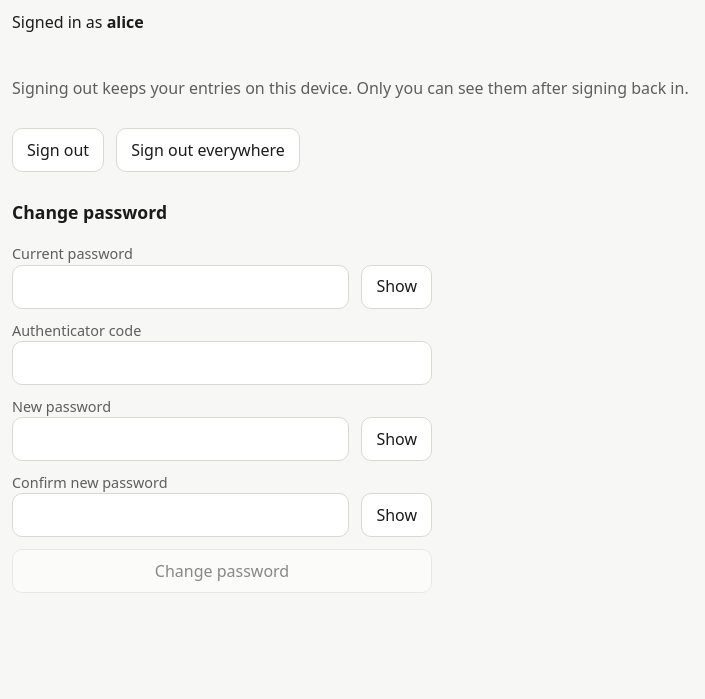
Test: AccountMenu › change password (ASVS 2.1.5, 2.1.6) › sends the current password, a code and the new password, then confirms and clears the form
In the password field labelled "Current password": (181, 287) 12,265 -> 349,309, type "the old passphrase"
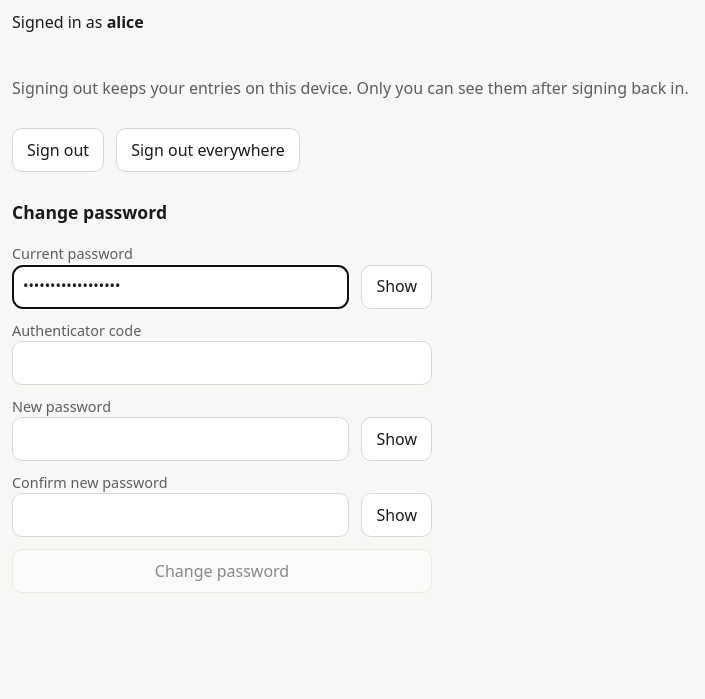
In the field labelled "Authenticator code": (222, 363) 12,341 -> 432,385, type "123456"
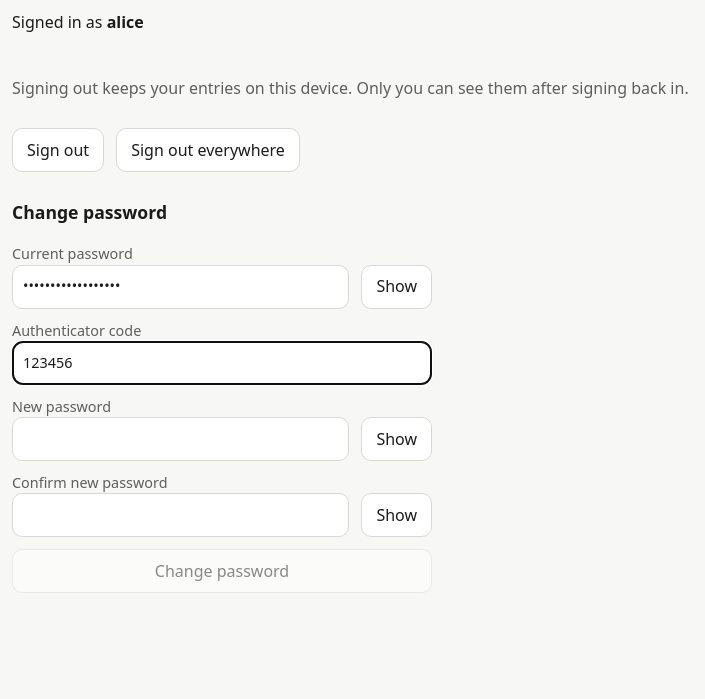
In the password field labelled "New password": (181, 439) 12,417 -> 349,461, type "a new and private passphrase"
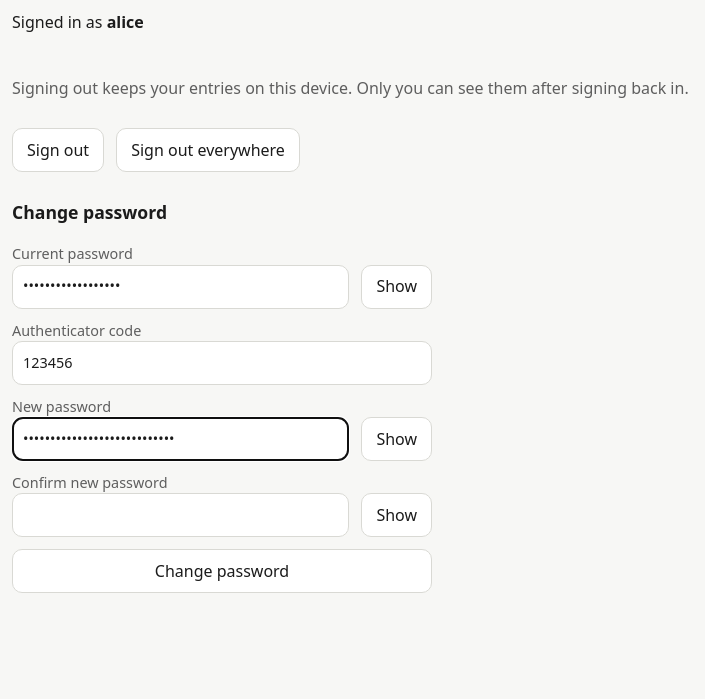
In the password field labelled "Confirm new password": (181, 515) 12,493 -> 349,537, type "a new and private passphrase"
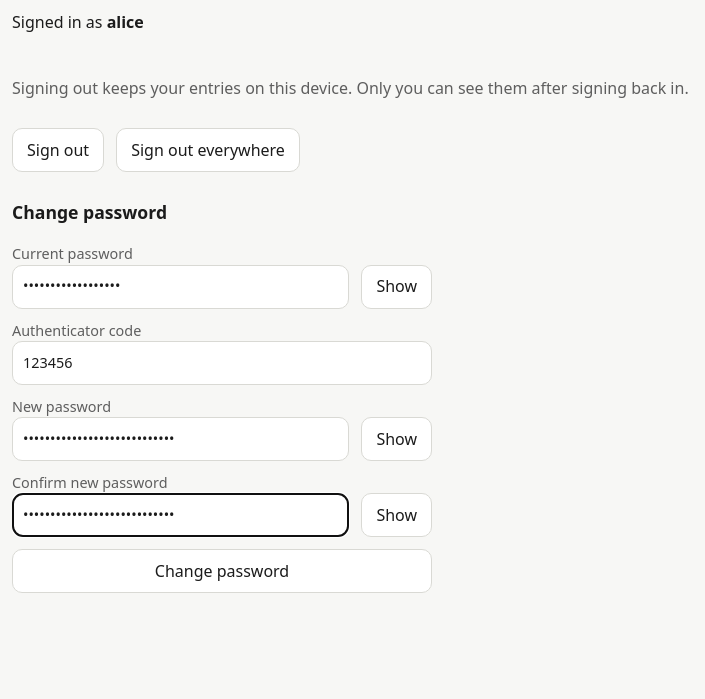
Click the button "Change password": (222, 571) 12,549 -> 432,593
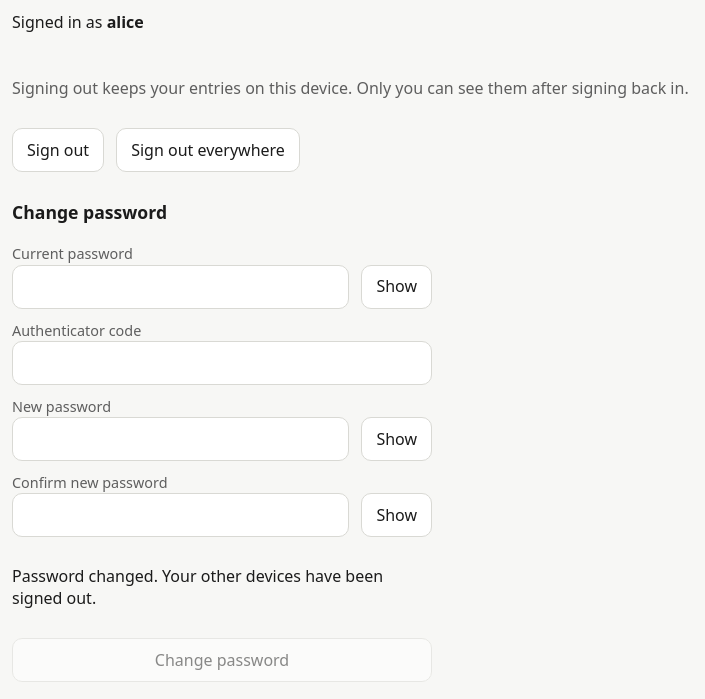
Expected: the message reads "Password changed. Your other devices have been signed out.", 12,565 -> 383,609
Expected: the password field labelled "Current password" is empty, 12,265 -> 349,309
